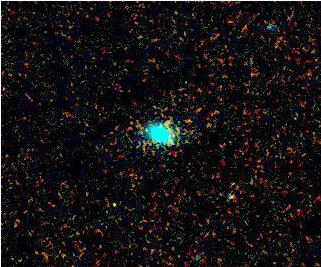star: (94, 190, 124, 220)
